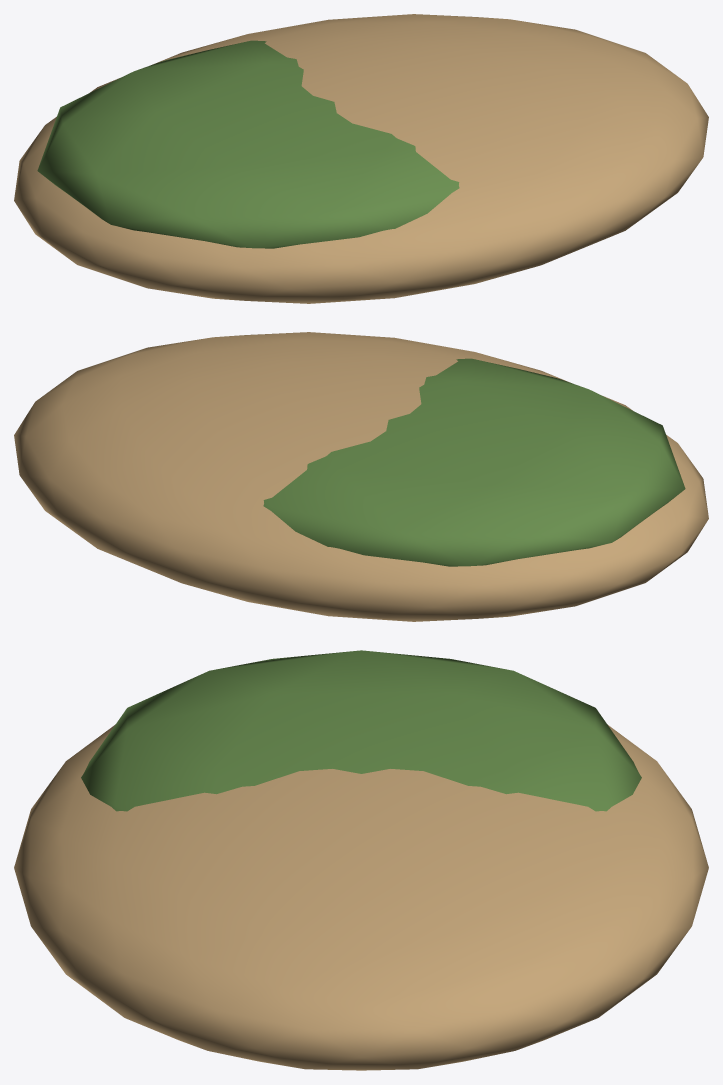
The model's file is SM_Env_Transition.fbx.
The picture shows the model from 3 angles, top to bottom: view 1: azimuth 30°, elevation 25°; view 2: azimuth 150°, elevation 25°; view 3: azimuth 270°, elevation 25°; orthographic projection. The views are drawn at different scales.
Visible parts, largest first — view 1: Terrain_piece.002, Grass_cap; view 2: Terrain_piece.002, Grass_cap; view 3: Terrain_piece.002, Grass_cap.
Part boxes in pixels (left/top/right/bottom): Terrain_piece.002: left=14, top=14, right=708, bottom=303; Grass_cap: left=37, top=40, right=459, bottom=248; Terrain_piece.002: left=14, top=332, right=708, bottom=621; Grass_cap: left=263, top=358, right=685, bottom=566; Terrain_piece.002: left=14, top=724, right=708, bottom=1070; Grass_cap: left=81, top=650, right=641, bottom=811.
Size of what is drawn, in the model's own units: 310 by 240 by 60.5.
